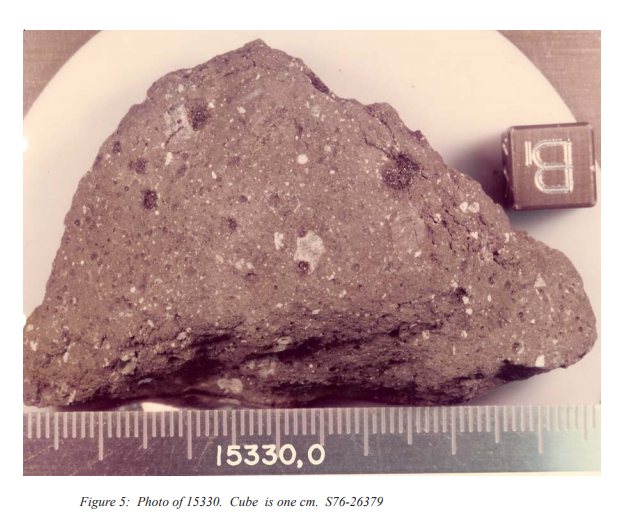Breccia: (43, 50, 586, 417), (191, 145, 490, 379), (46, 149, 311, 360)
